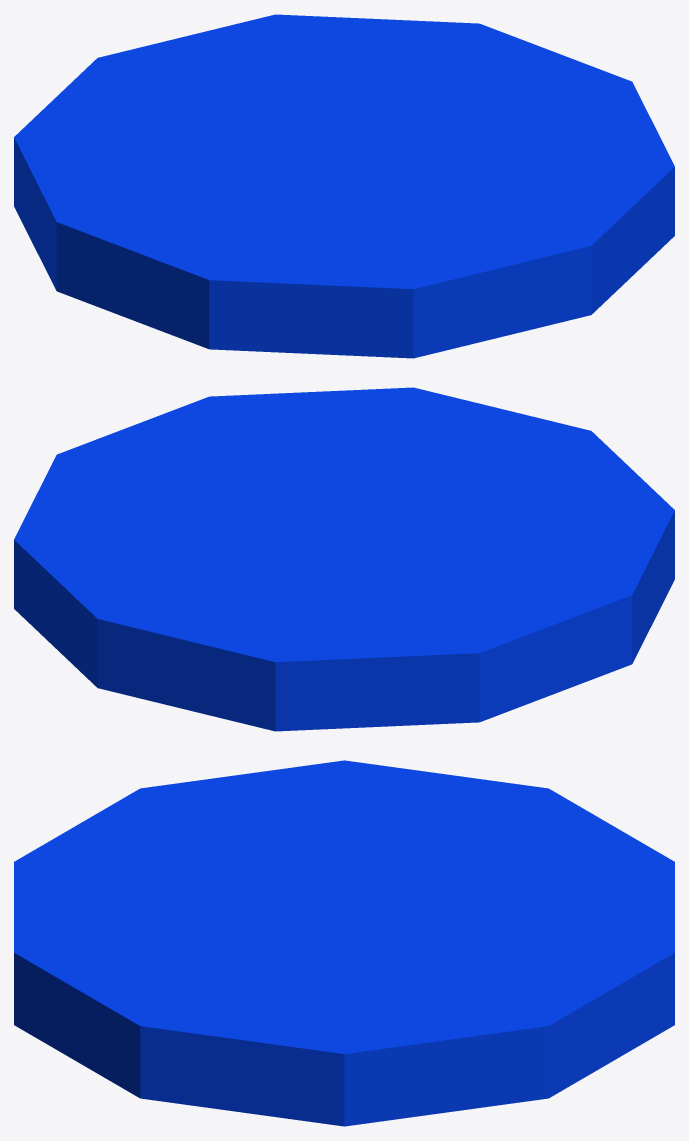
File: patchModel_1.gltf
3 renders of one model, top to bottom at view 1: azimuth 30°, elevation 25°; view 2: azimuth 150°, elevation 25°; view 3: azimuth 270°, elevation 25°, orthographic. The views are drawn at different scales.
Visible parts, largest first — view 1: pCylinder6; view 2: pCylinder6; view 3: pCylinder6.
Part boxes in pixels (x1=…): pCylinder6: x1=14, y1=14, x2=674, y2=358; pCylinder6: x1=14, y1=387, x2=674, y2=731; pCylinder6: x1=14, y1=760, x2=674, y2=1126.
Size of the model in its own units: 1.74 by 0.2 by 1.65.
